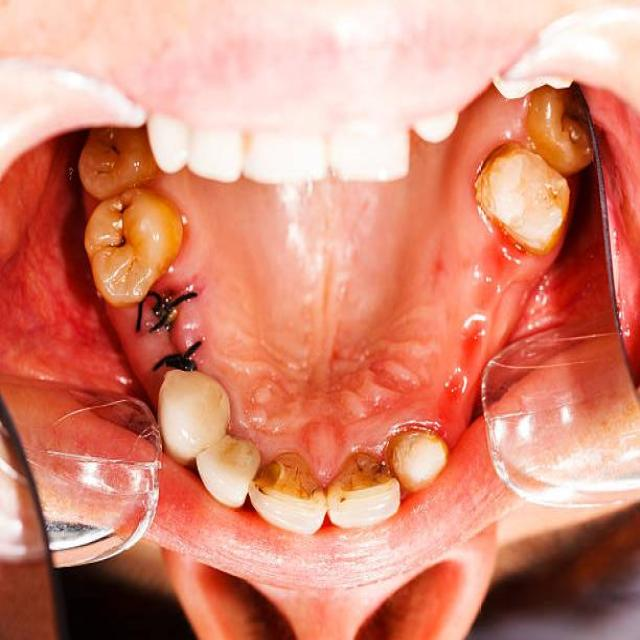caries: (250, 443, 328, 511), (327, 439, 395, 508), (96, 125, 135, 174), (101, 221, 131, 254), (108, 192, 136, 219)
